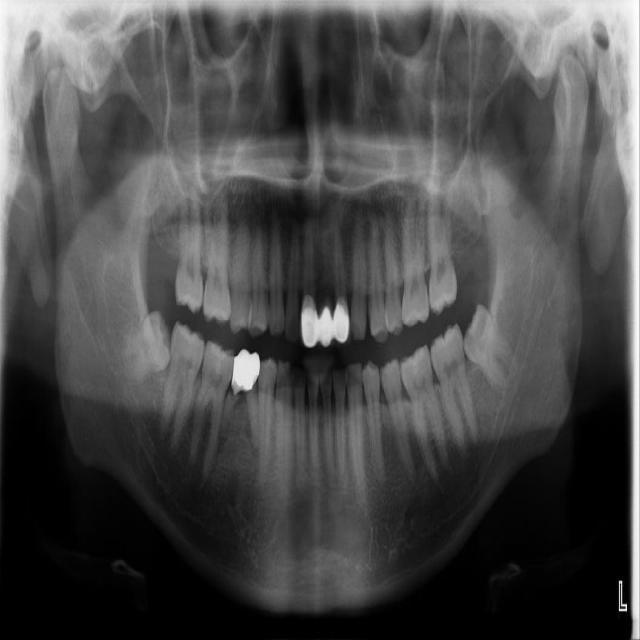Crown: (299, 301, 352, 350), (231, 349, 261, 387)
Periapical lesion: (198, 456, 218, 487), (216, 426, 229, 449), (408, 473, 421, 492), (245, 423, 252, 447)
impacted tooth: (464, 307, 517, 391), (114, 311, 169, 382)
